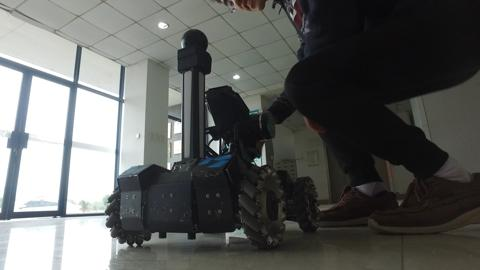chariot: (92, 25, 332, 255)
